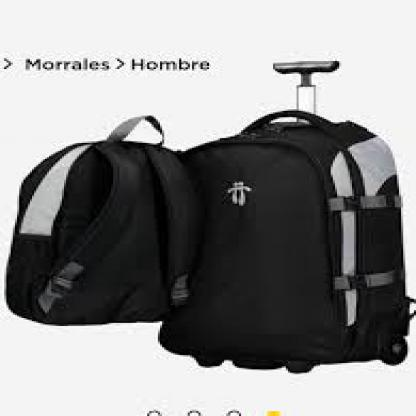morral: (181, 73, 414, 374), (7, 100, 194, 326)
